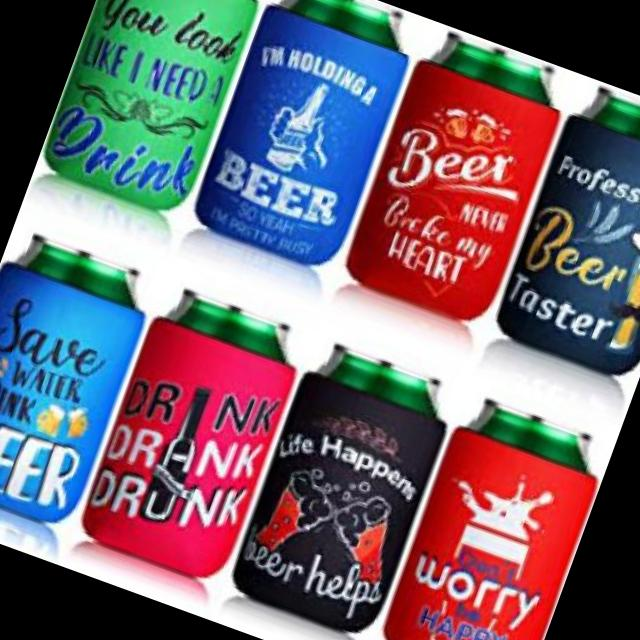Kaleng: (336, 22, 576, 330), (72, 279, 312, 586), (223, 334, 461, 640), (185, 0, 425, 275), (374, 388, 615, 640), (35, 0, 274, 220), (0, 223, 161, 531), (488, 75, 640, 384)
